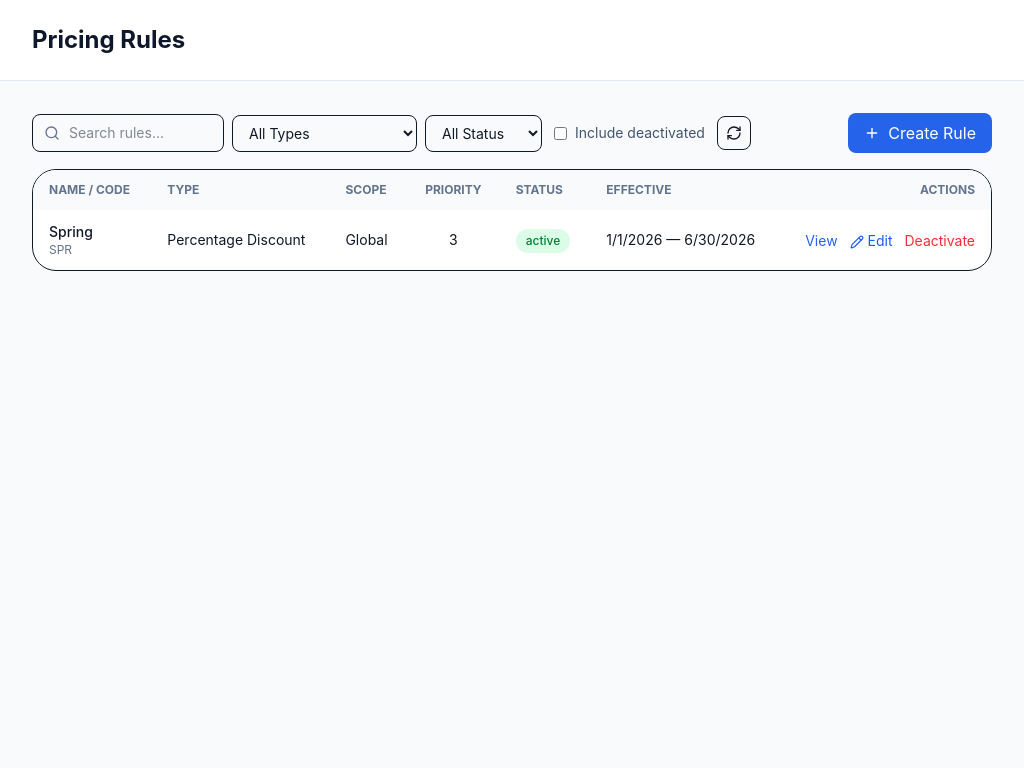
Test: Pricing Rule dialogs (smoke, rebuilt on Modal) › Edit closes the dialog after Update Rule
Expected: the text "Spring" is shown, left=49, top=223, right=93, bottom=240
Click the button "Edit" at (871, 241), box left=850, top=231, right=892, bottom=251
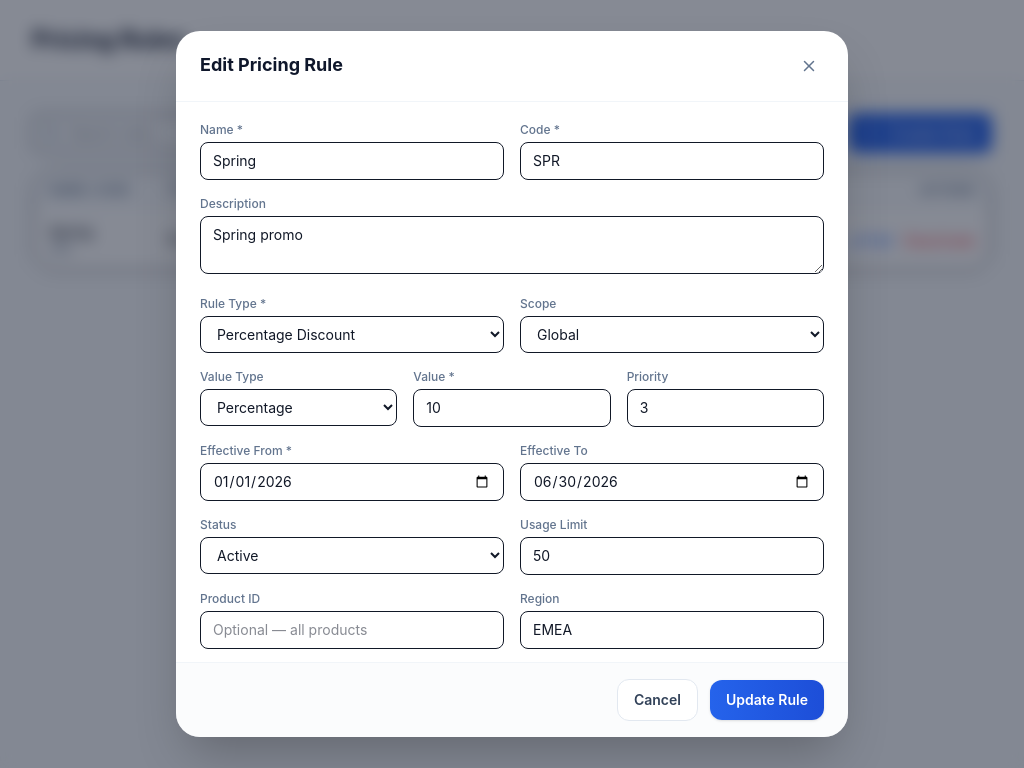
Click the button "Update Rule" at (767, 700), box left=710, top=680, right=824, bottom=720
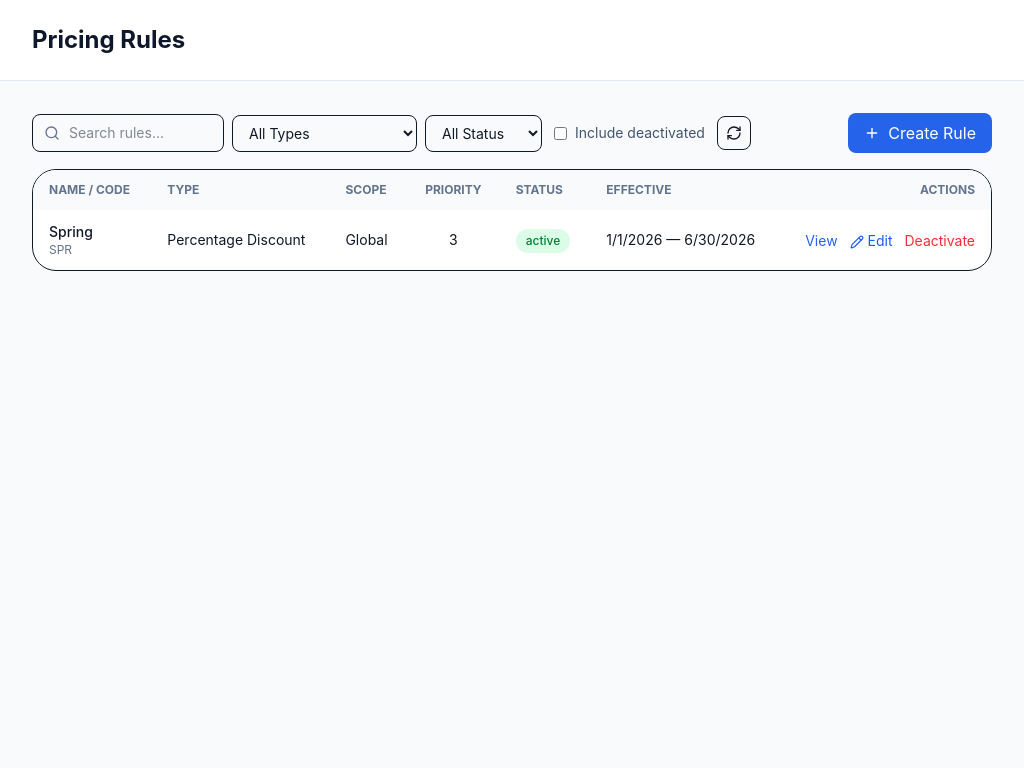
Expected: the dialog is gone
